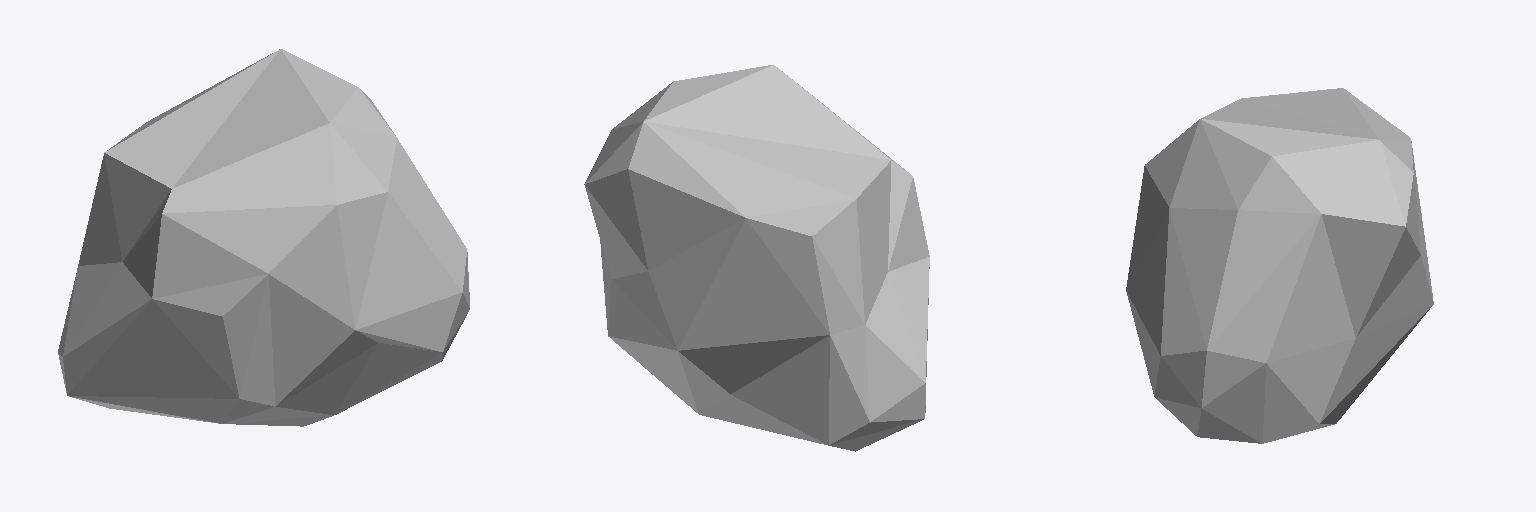
The model's file is rock1.002.obj.
The picture shows the model from 3 angles: view 1: azimuth 30°, elevation 25°; view 2: azimuth 150°, elevation 25°; view 3: azimuth 270°, elevation 25°; orthographic projection.
Parts seen in each view (by area): view 1: rock1.002_Cube.024; view 2: rock1.002_Cube.024; view 3: rock1.002_Cube.024.
Part boxes in pixels (x1,y1,x2,y2): rock1.002_Cube.024: (58,49,469,426); rock1.002_Cube.024: (584,65,929,451); rock1.002_Cube.024: (1126,88,1433,443).
Size of the model in its own units: 189 by 158 by 144.